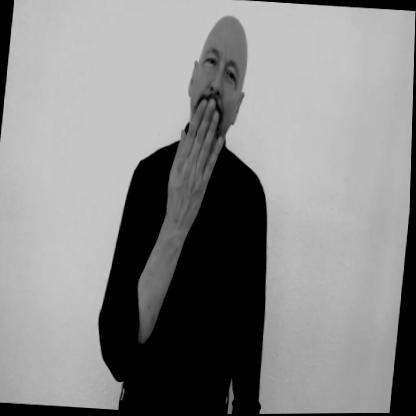ThankYou: (91, 9, 301, 415)
